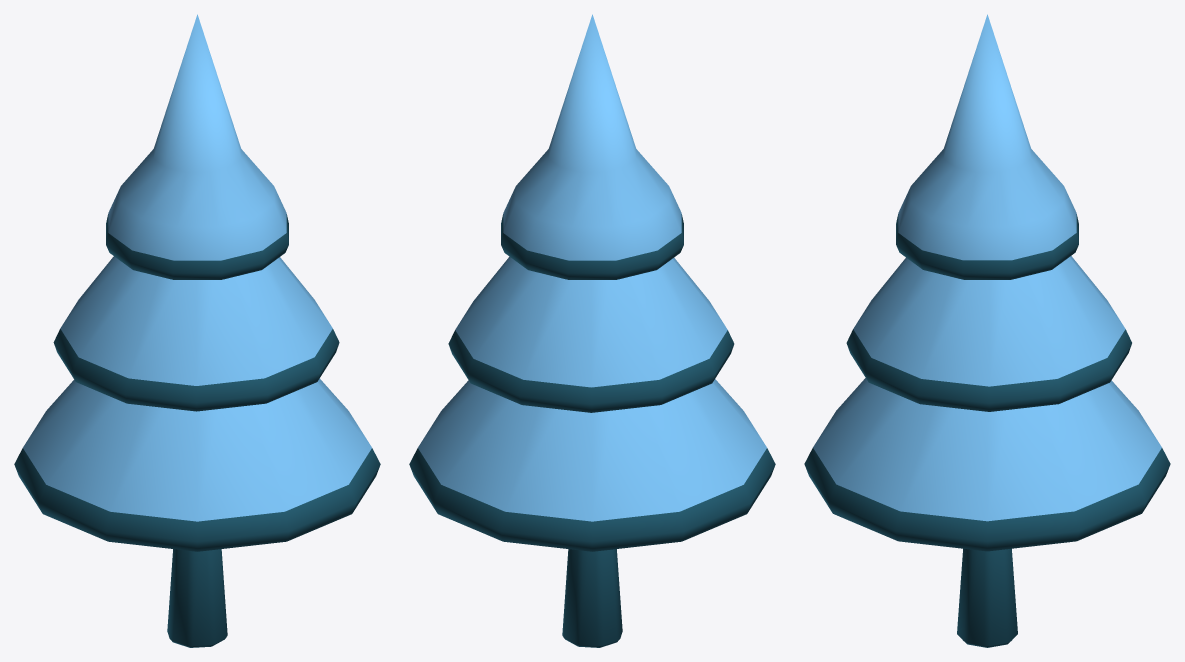
The model's file is tree_blue.fbx.
3 views of the same model, side by side, from view 1: azimuth 30°, elevation 25°; view 2: azimuth 150°, elevation 25°; view 3: azimuth 270°, elevation 25° (orthographic).
Parts seen in each view (by area): view 1: tree_blue; view 2: tree_blue; view 3: tree_blue.
Boxes of the visible parts, x1,y1,x2,y2 form: tree_blue: (14,14,380,647); tree_blue: (409,14,775,647); tree_blue: (804,14,1170,647).
Bounding box in the file's own units: 0.7475 × 1.4 × 0.7475.
